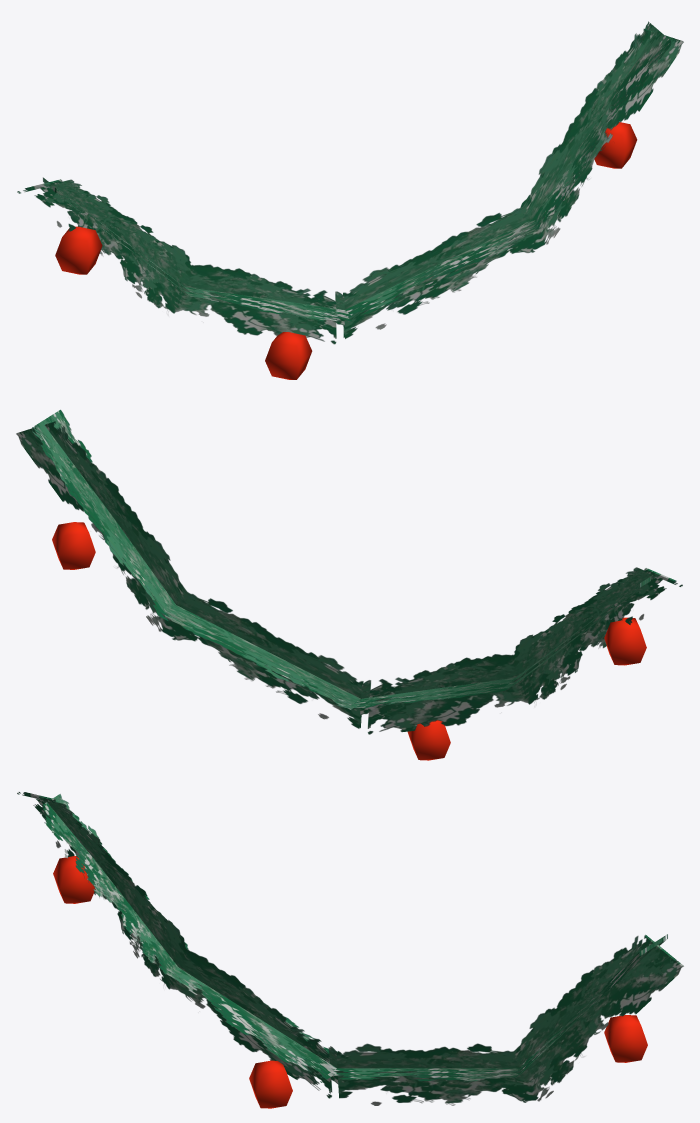
Rendered from wreaths05.glb.
3 renders of one model, top to bottom at view 1: azimuth 30°, elevation 25°; view 2: azimuth 150°, elevation 25°; view 3: azimuth 330°, elevation 25°, orthographic.
Visible parts, largest first — view 1: Wreaths05; view 2: Wreaths05; view 3: Wreaths05.
Boxes of the visible parts, x1,y1,x2,y2 form: Wreaths05: [17, 21, 683, 379]; Wreaths05: [16, 409, 682, 760]; Wreaths05: [17, 792, 683, 1108].
Bounding box in the file's own units: 4.46 × 1.68 × 0.4773.
2 materials, 2 textured.
